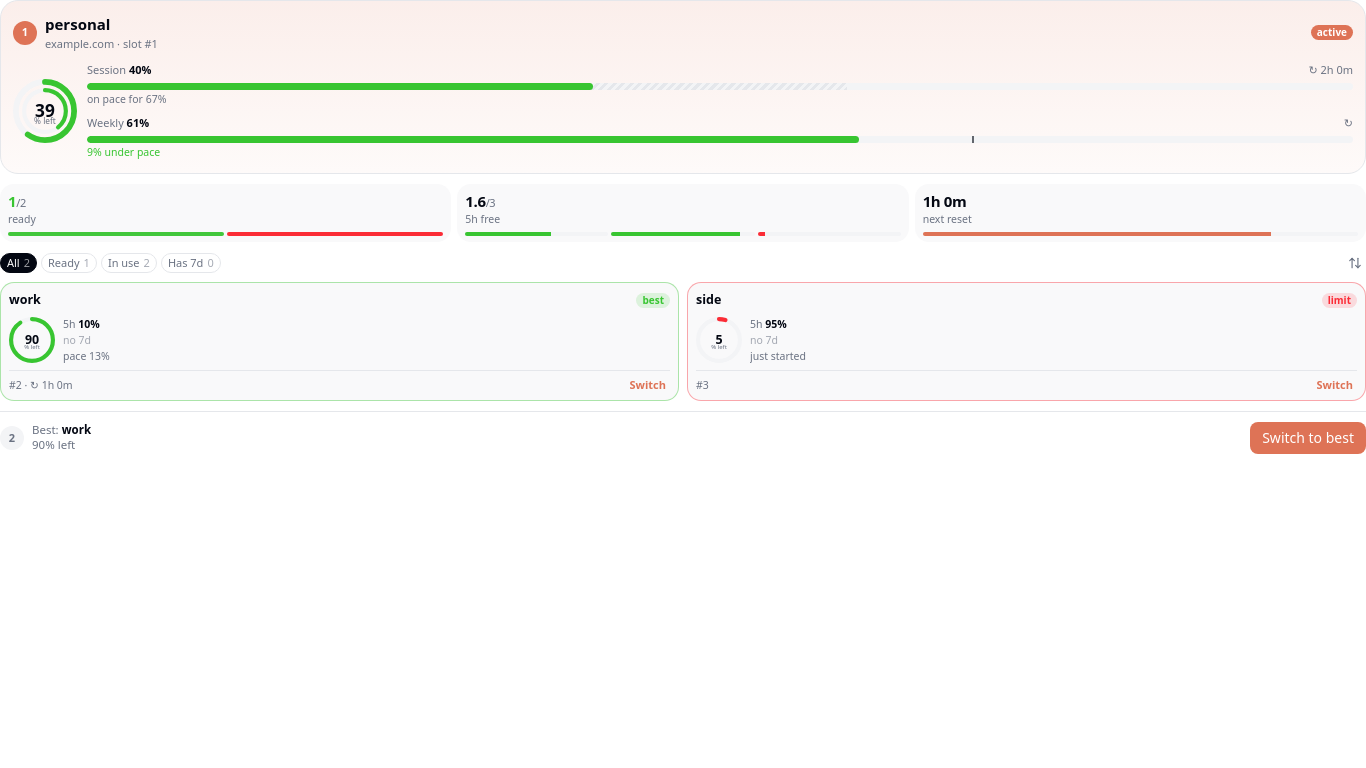
Test: AccountList › filters and opens a detail sheet with every stat
This screenshot has width=1366, height=768.
Click the button "Ready1": x=69, y=263 [41, 252, 97, 273]
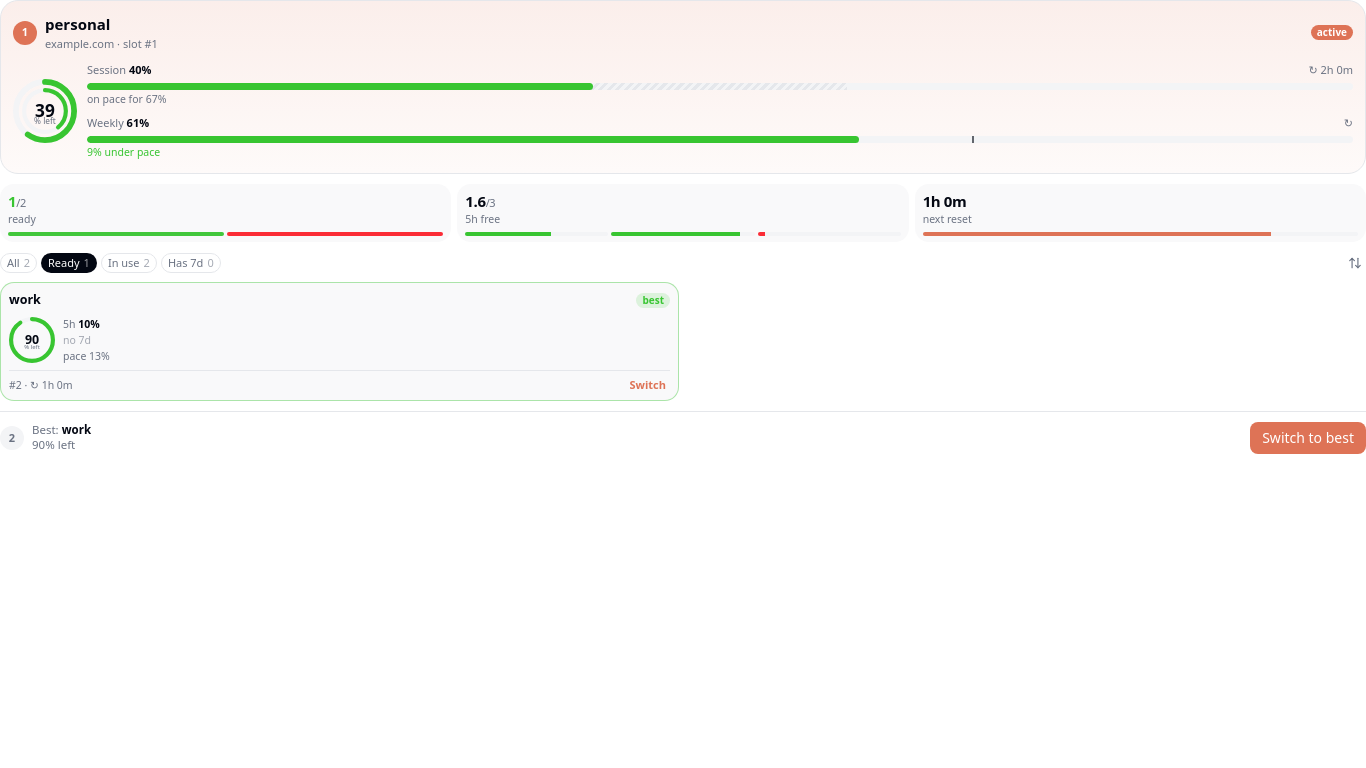
Click the button with aria-label "personal details": x=683, y=87 [0, 0, 1365, 174]
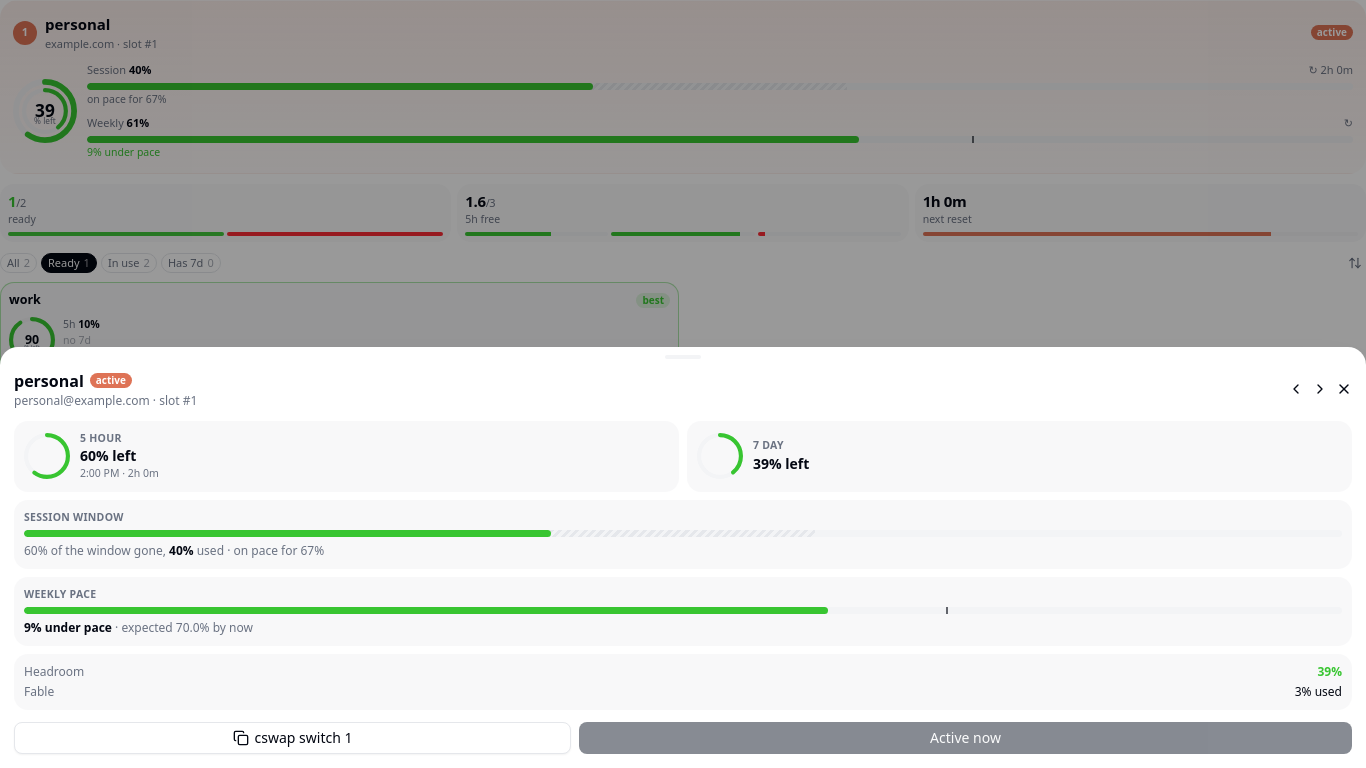
Check: the text "Fable" is shown, box [24, 683, 54, 700]
Check: the button "Active now" is shown, box [579, 722, 1352, 754]
Press Escape
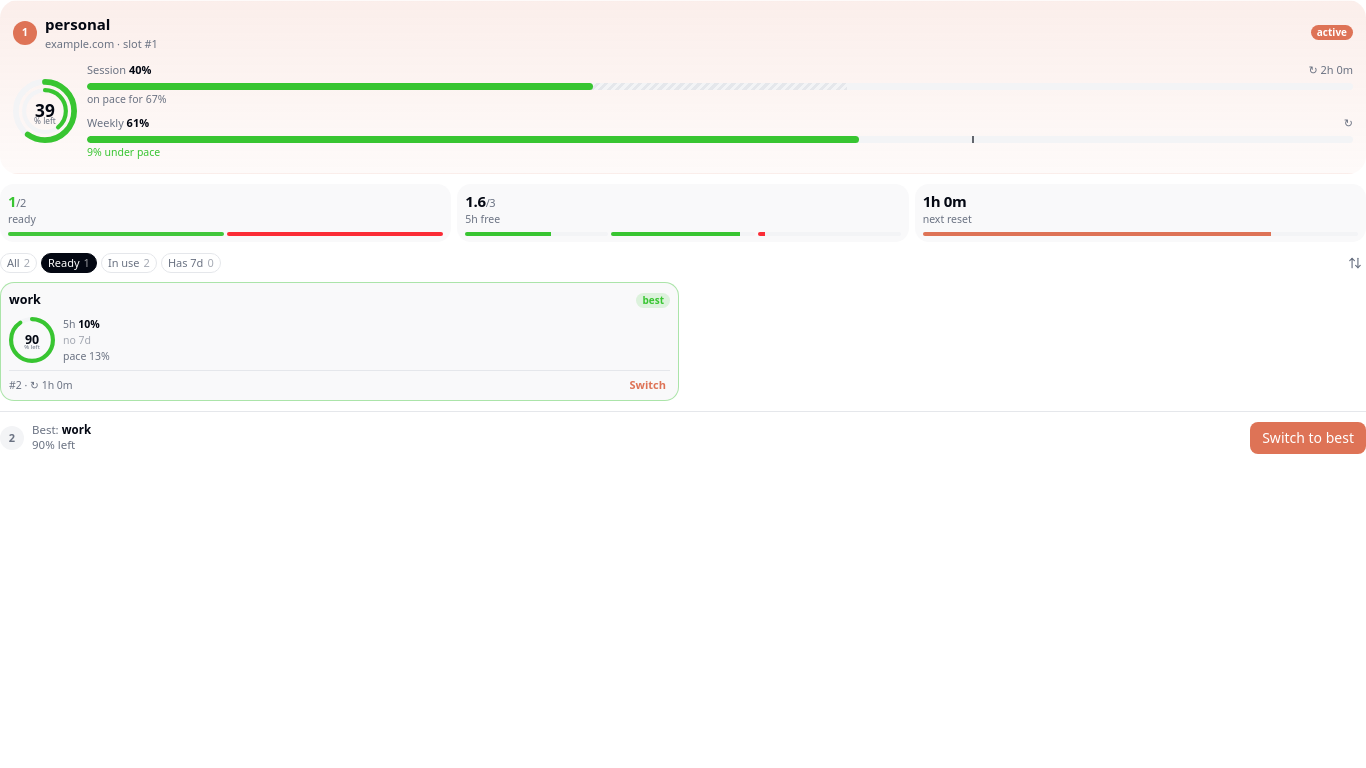
Check: the dialog is gone
